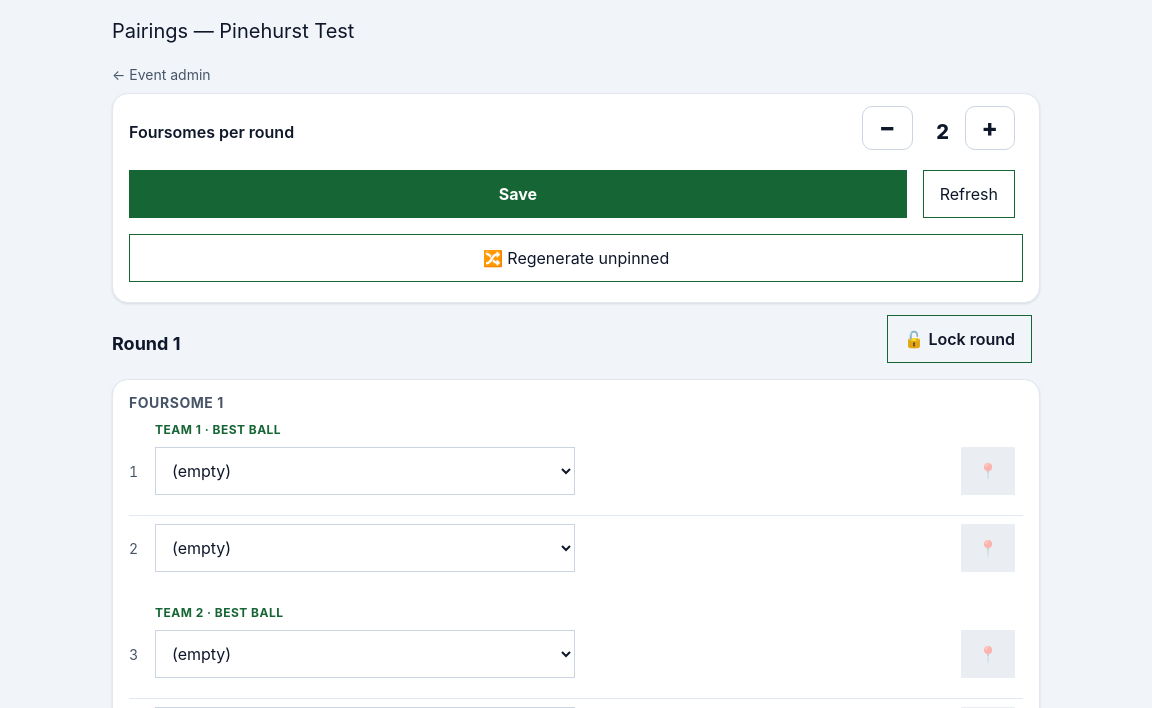
Test: PairingsPage › lock-round: clicking the lock button sets the row to locked + greys out cells
Expected: the dropdown with test id "select-0-0-0" is enabled, [155,447,575,495]
Note: Click lock button.
Click the button with test id "lock-round-0" at (960, 339), box [887,315,1032,363]
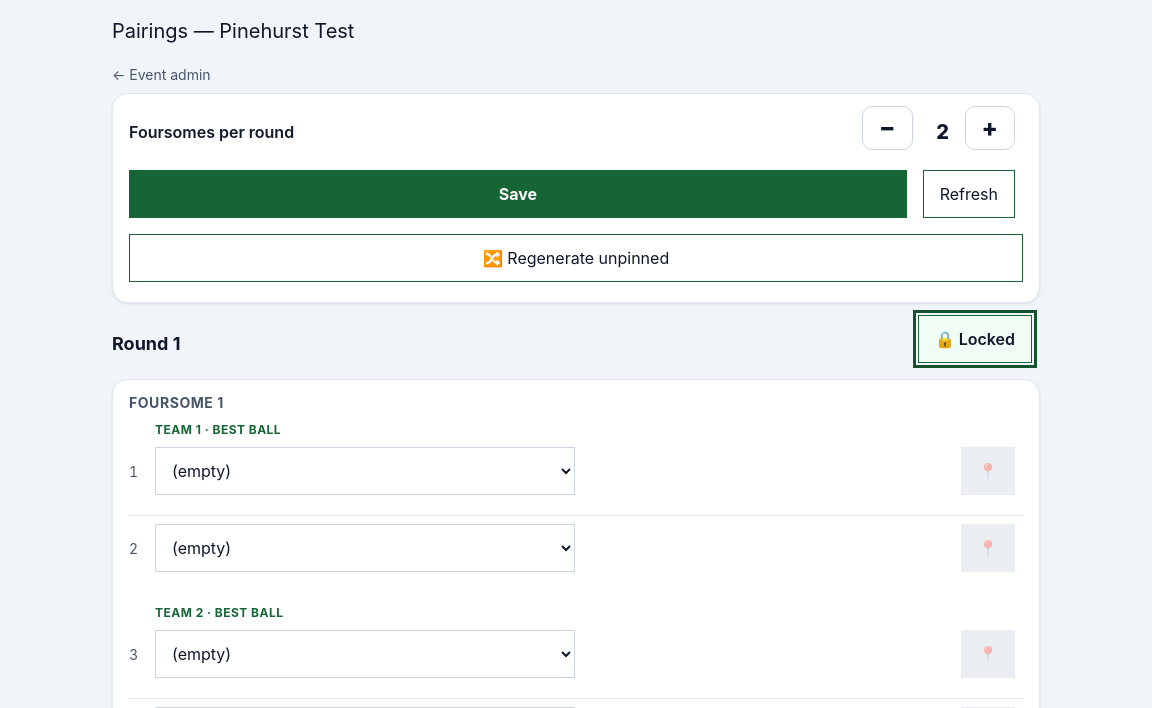
Expected: the dropdown with test id "select-0-0-0" is disabled, [155,447,575,495]
Expected: the button with test id "lock-round-0" shows "Locked", [918,315,1032,363]
